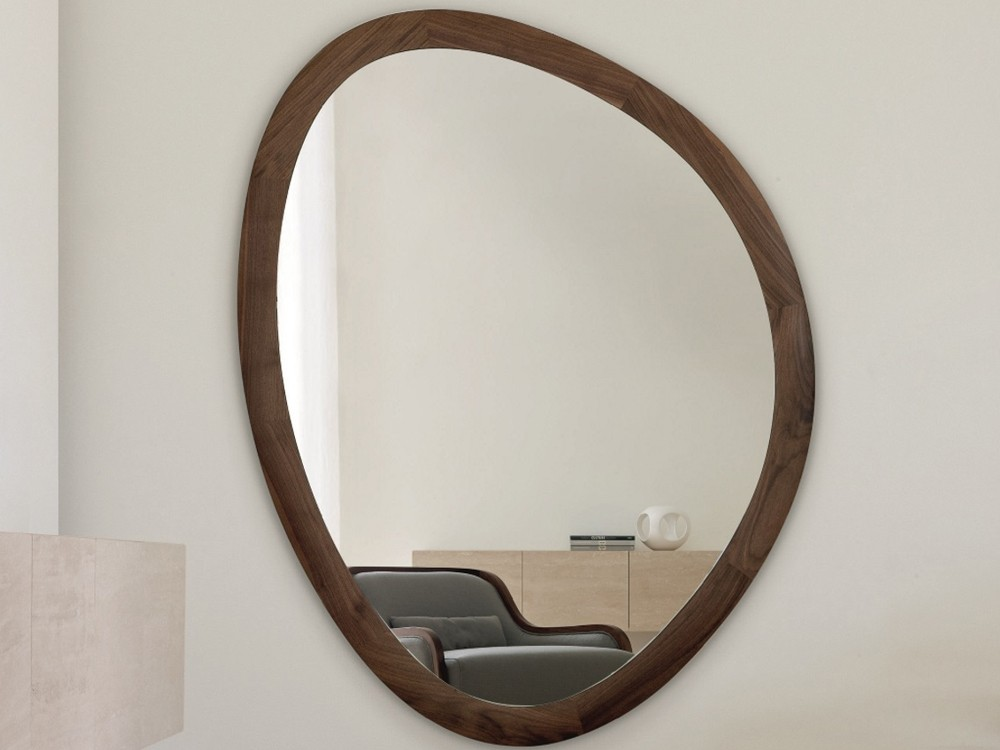Nonrec_Glass: (211, 10, 840, 727)
